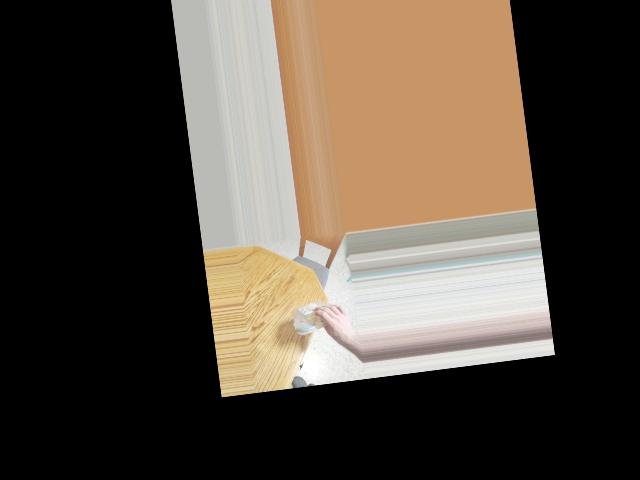cheese: (299, 296, 347, 338)
